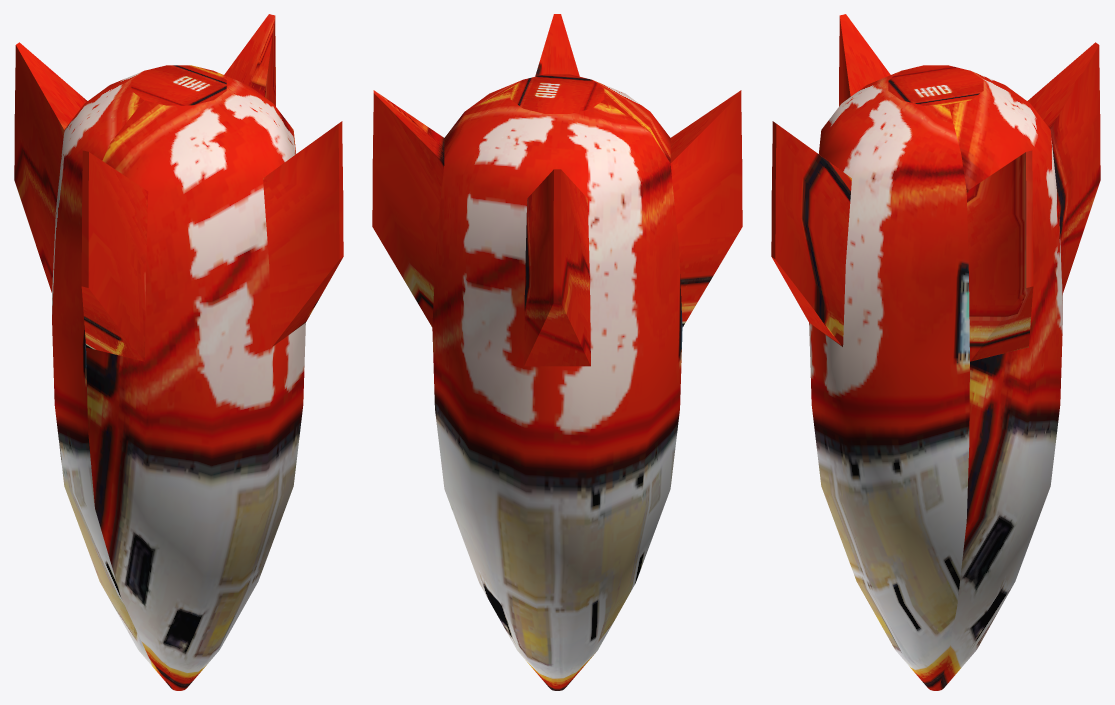
File: BulletD.obj
3 renders of one model, left to right at view 1: azimuth 30°, elevation 25°; view 2: azimuth 150°, elevation 25°; view 3: azimuth 270°, elevation 25°, orthographic.
Parts seen in each view (by area): view 1: Cylinder004; view 2: Cylinder004; view 3: Cylinder004.
Boxes of the visible parts, x1,y1,x2,y2 form: Cylinder004: (14,14,343,690); Cylinder004: (372,14,742,690); Cylinder004: (771,14,1100,690).
Size of the model in its own units: 66.15 by 134 by 66.15.
Materials: 1 (1 with a texture image).
